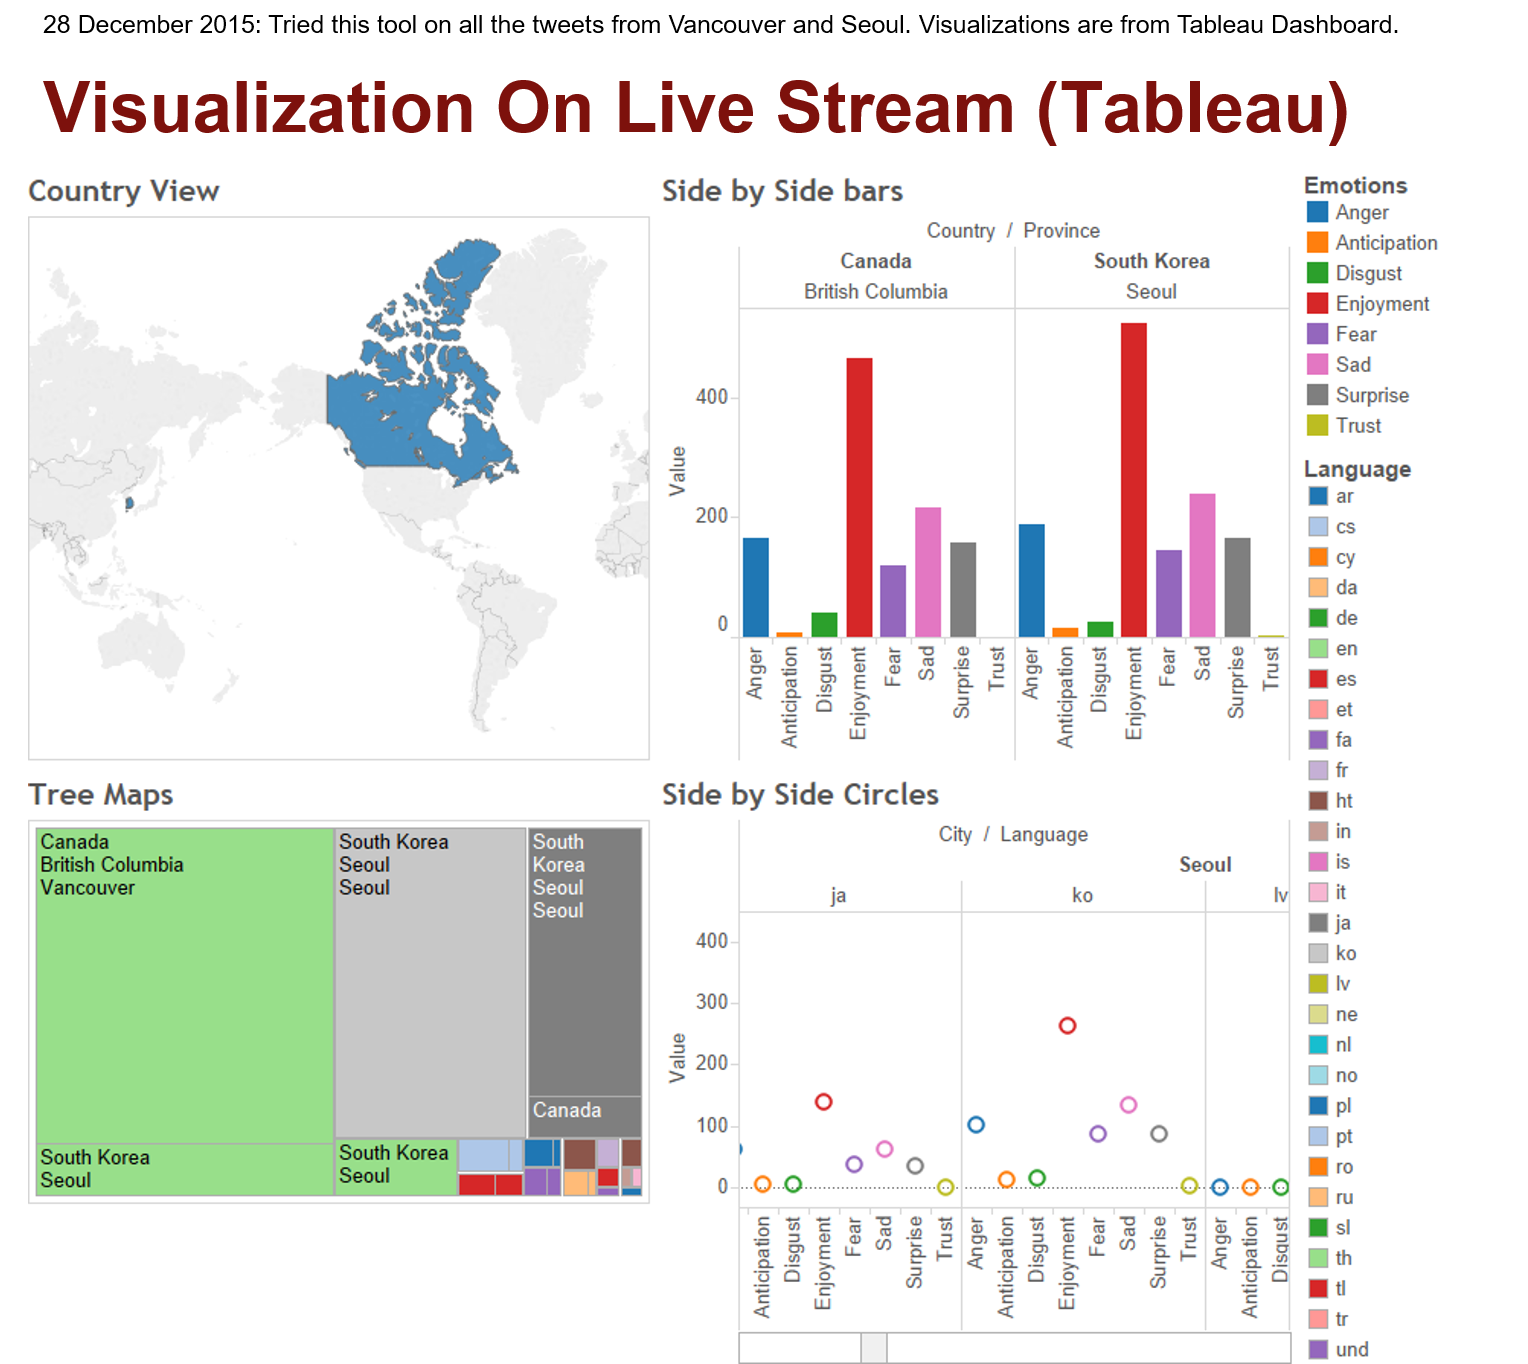

The dashboard page shown, as its layout file describes it:
{"tool":"tableau","page":{"name":"Dashboard 1","canvas":[1000,800],"ordinal":0},"visuals":[{"type":"worksheet","title":"Sheet 1","mark":"Multipolygon","box":[0,0,420,400]},{"type":"worksheet","title":"Sheet 2","mark":"Automatic","cols":["COUNTRY","PROVINCE"],"box":[420,0,420,400]},{"type":"legend","title":"Sheet 2","param":"[textscan.1u8rf051q2y505160gfkj1mgbfis].[:Measure Names]","box":[840,0,160,190]},{"type":"legend","title":"Sheet 3","param":"[textscan.1u8rf051q2y505160gfkj1mgbfis].[none:LANGUAGE:nk]","box":[840,190,160,610]},{"type":"worksheet","title":"Sheet 3","mark":"Automatic","box":[0,400,420,400]},{"type":"worksheet","title":"Sheet 4 (2)","mark":"Shape","cols":["CITY","LANGUAGE"],"box":[420,400,420,400]}]}

Visuals, with their boxes on the page's 1000x800 design canvas (x1, y1, x2, y2). These are canvas units, not pixel positions in the 1528x1364 screenshot, which may show the page scaled, cropped or inside an application window:
"Sheet 1" worksheet (Multipolygon marks): {"x1": 0, "y1": 0, "x2": 420, "y2": 400}
"Sheet 2" worksheet: {"x1": 420, "y1": 0, "x2": 840, "y2": 400}
"Sheet 2" legend: {"x1": 840, "y1": 0, "x2": 1000, "y2": 190}
"Sheet 3" legend: {"x1": 840, "y1": 190, "x2": 1000, "y2": 800}
"Sheet 3" worksheet: {"x1": 0, "y1": 400, "x2": 420, "y2": 800}
"Sheet 4 (2)" worksheet (Shape marks): {"x1": 420, "y1": 400, "x2": 840, "y2": 800}
